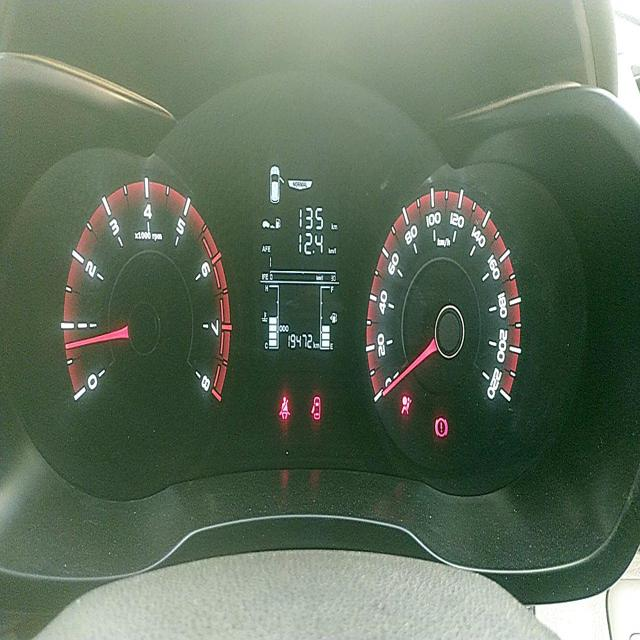odometer: (284, 328, 313, 353)
